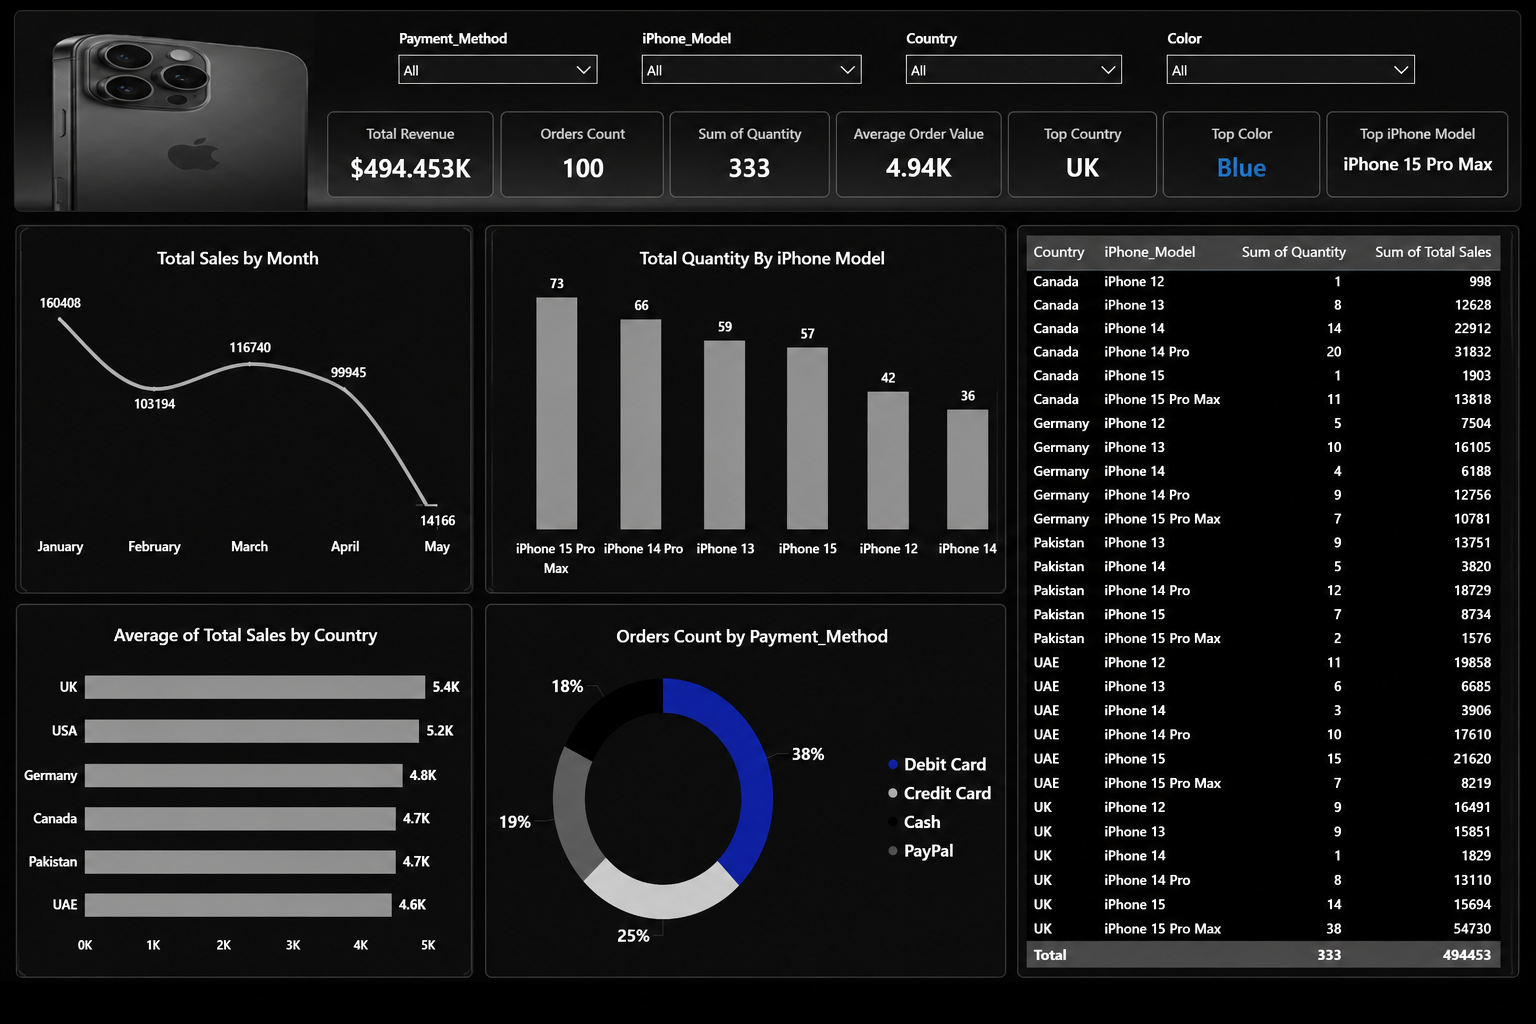

This screenshot's page, from the dashboard's own definition file:
{"tool":"powerbi","page":{"name":"overview","canvas":[1920,1080],"ordinal":0},"visuals":[{"type":"shape","box":[0,0,1920.4,207.9],"z":0},{"type":"image","box":[0,1.8,1919.6,235.6],"z":1000},{"type":"lineChart","fields":{"Y":["Sum(iphone db.Total Sales)"],"Category":["iphone db.Sale_Date.Variation.Date Hierarchy.Month"]},"box":[0,259.3,611.3,393.1],"z":2000},{"type":"clusteredBarChart","fields":{"Category":["iphone db.Country"],"Y":["Avg(iphone db.Total Sales)"]},"box":[0,675.5,611,404.9],"z":3000},{"type":"clusteredColumnChart","title":"Total Quantity By iPhone Model","fields":{"Category":["iphone db.iPhone_Model"],"Y":["Sum(iphone db.Quantity)"]},"box":[625.7,259.3,741,393.1],"z":4000},{"type":"donutChart","fields":{"Category":["iphone db.Payment_Method"],"Y":["iphone db.Orders Count"]},"box":[625.7,675.1,741,405.5],"z":5000},{"type":"tableEx","fields":{"Values":["iphone db.Country","iphone db.iPhone_Model","Sum(iphone db.Quantity)","Sum(iphone db.Total Sales)"]},"box":[1383.2,259.3,537.2,821.3],"z":6000},{"type":"slicer","fields":{"Values":["iphone db.Color"]},"box":[1569.9,33.1,287.1,68.1],"z":7000,"group":"g1"},{"type":"cardVisual","fields":{"Data":["iphone db.Total Revenue","iphone db.Orders Count","Sum(iphone db.Quantity)","iphone db.Average Order Value","iphone db.Top Country","iphone db.Top Color","iphone db.Top iPhone Model"]},"box":[462,134.4,1457.7,88.3],"z":7000},{"type":"group","id":"g1","title":"Group 1","box":[546.6,33.1,1310.4,66.3],"z":8000},{"type":"slicer","fields":{"Values":["iphone db.Payment_Method"]},"box":[546.6,33.1,300,69.9],"z":8000,"group":"g1"},{"type":"slicer","fields":{"Values":["iphone db.iPhone_Model"]},"box":[887.7,33.1,300,69.9],"z":9000,"group":"g1"},{"type":"slicer","fields":{"Values":["iphone db.Country"]},"box":[1228.8,33.1,300,66.3],"z":10000,"group":"g1"}]}

Visuals, with their boxes on the page's 1920x1080 design canvas (x1, y1, x2, y2). These are canvas units, not pixel positions in the 1536x1024 screenshot, which may show the page scaled, cropped or inside an application window:
shape: 0/0/1920/208
image: 0/2/1920/237
lineChart - Sum(iphone db.Total Sales) x iphone db.Sale_Date.Variation.Date Hierarchy.Month: 0/259/611/652
clusteredBarChart - iphone db.Country x Avg(iphone db.Total Sales): 0/676/611/1080
"Total Quantity By iPhone Model" clusteredColumnChart: 626/259/1367/652
donutChart - iphone db.Payment_Method x iphone db.Orders Count: 626/675/1367/1081
tableEx - iphone db.Country x iphone db.iPhone_Model: 1383/259/1920/1081
slicer - iphone db.Color: 1570/33/1857/101
cardVisual - iphone db.Total Revenue x iphone db.Orders Count: 462/134/1920/223
"Group 1" group: 547/33/1857/99
slicer - iphone db.Payment_Method: 547/33/847/103
slicer - iphone db.iPhone_Model: 888/33/1188/103
slicer - iphone db.Country: 1229/33/1529/99
